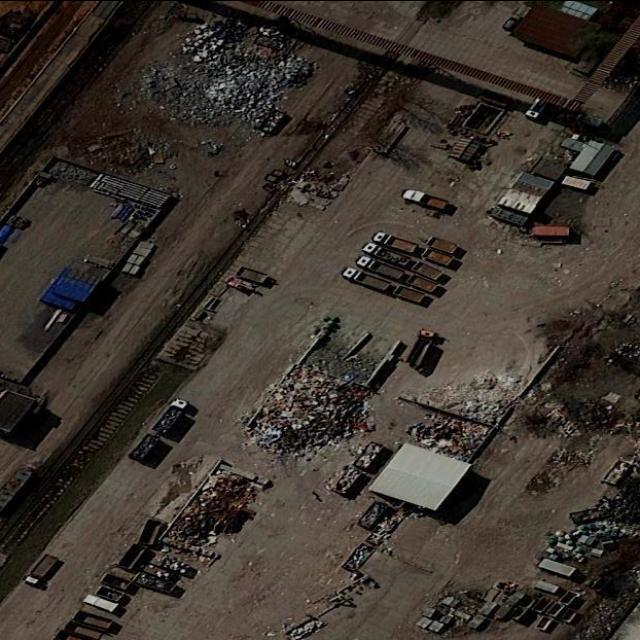dump_site: (115, 1, 332, 142), (236, 362, 398, 470), (165, 466, 276, 551), (405, 406, 495, 459)
